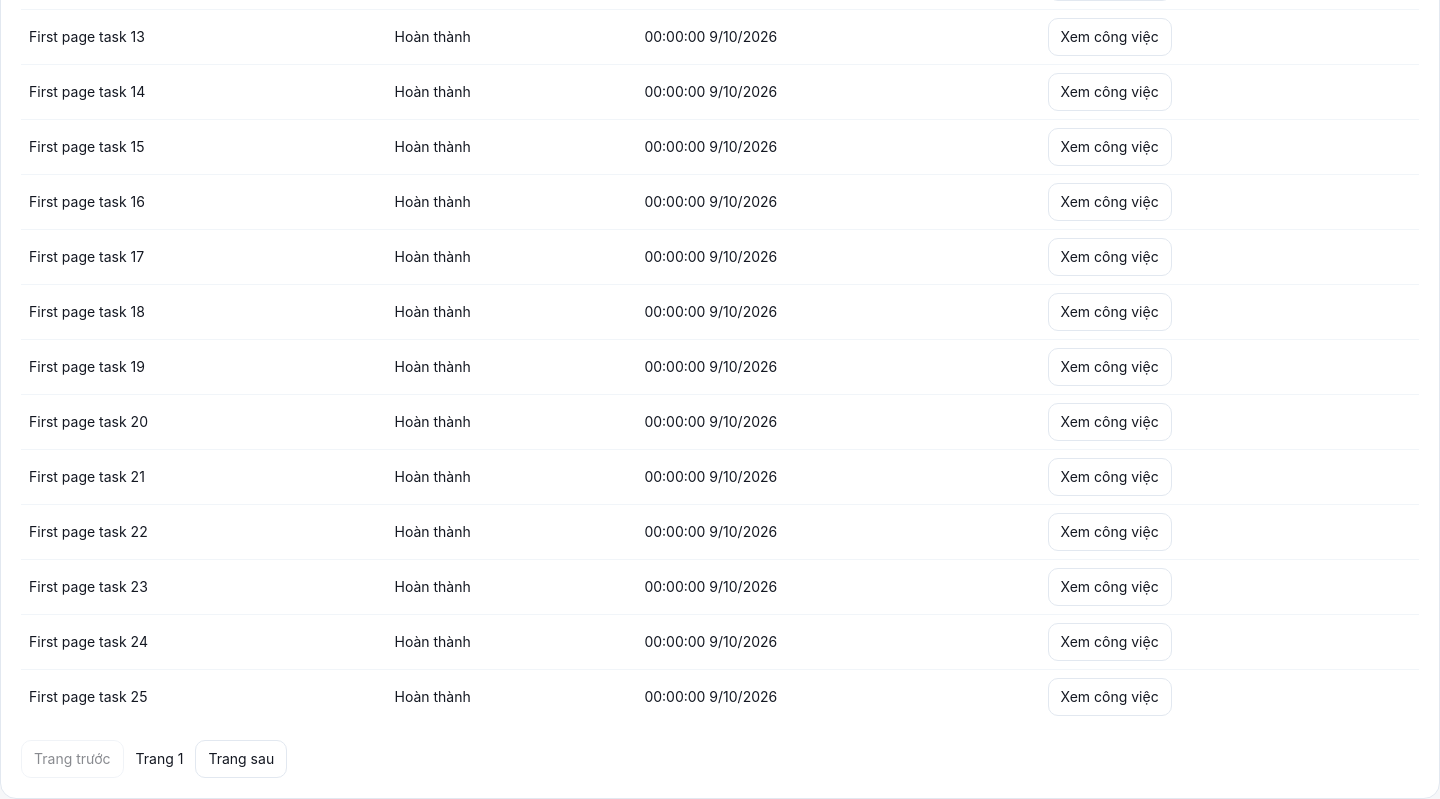
pages owner history, opens the later task and refreshes that page through reads only
(page scrolled)
Expected: the button "Trang trước" is disabled, [21,740,124,778]
Click the button "Trang sau".
click(241, 759)  # box [196,740,287,778]
(page scrolled)
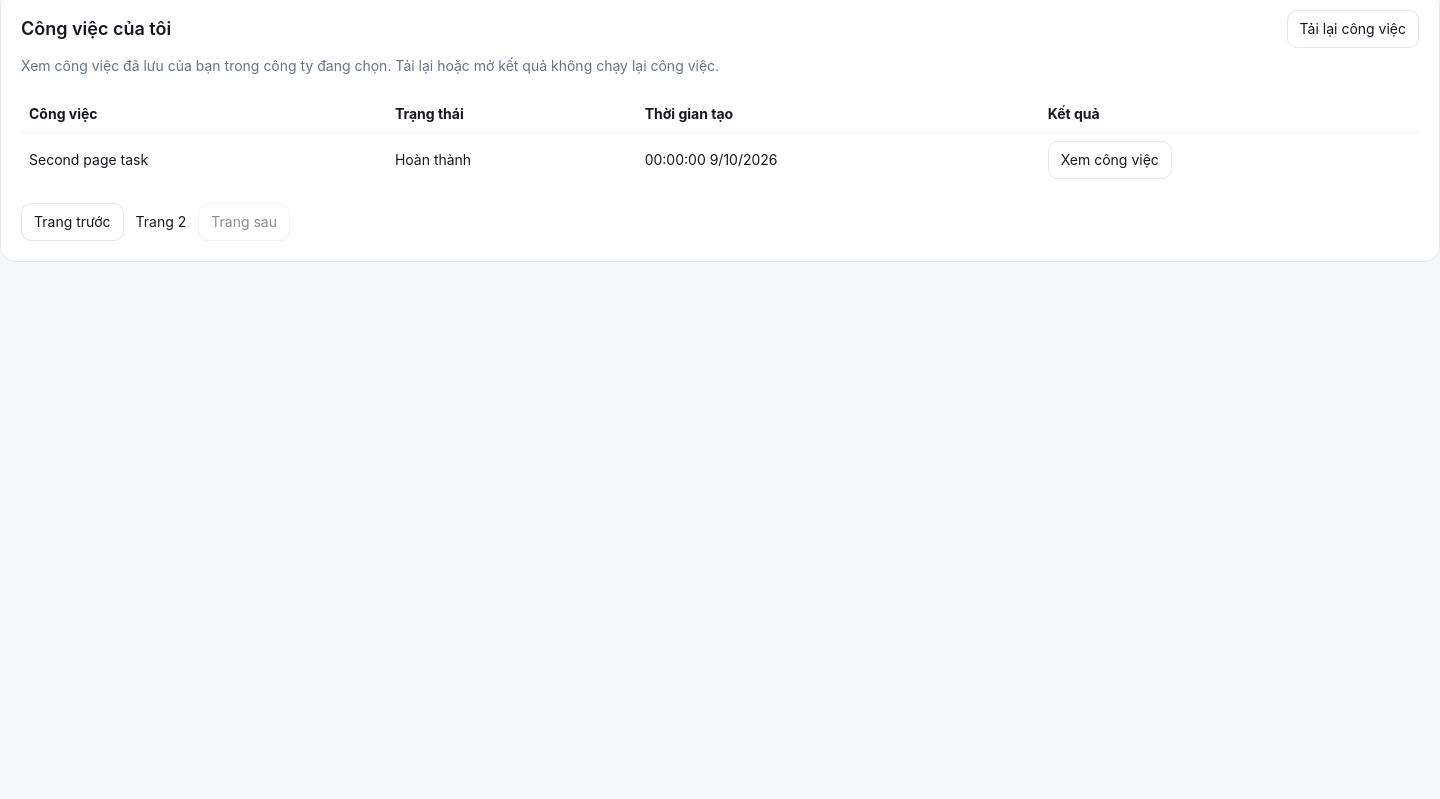
Result: the text "Second page task" is shown at [21,132,387,187]
Result: the text "Trang 2" is shown at [136,212,186,232]
Result: the button "Trang sau" is disabled at [198,203,290,241]
Click the button with aria-label "Xem công việc Second page task".
click(1110, 160)  # box [1048,141,1172,179]
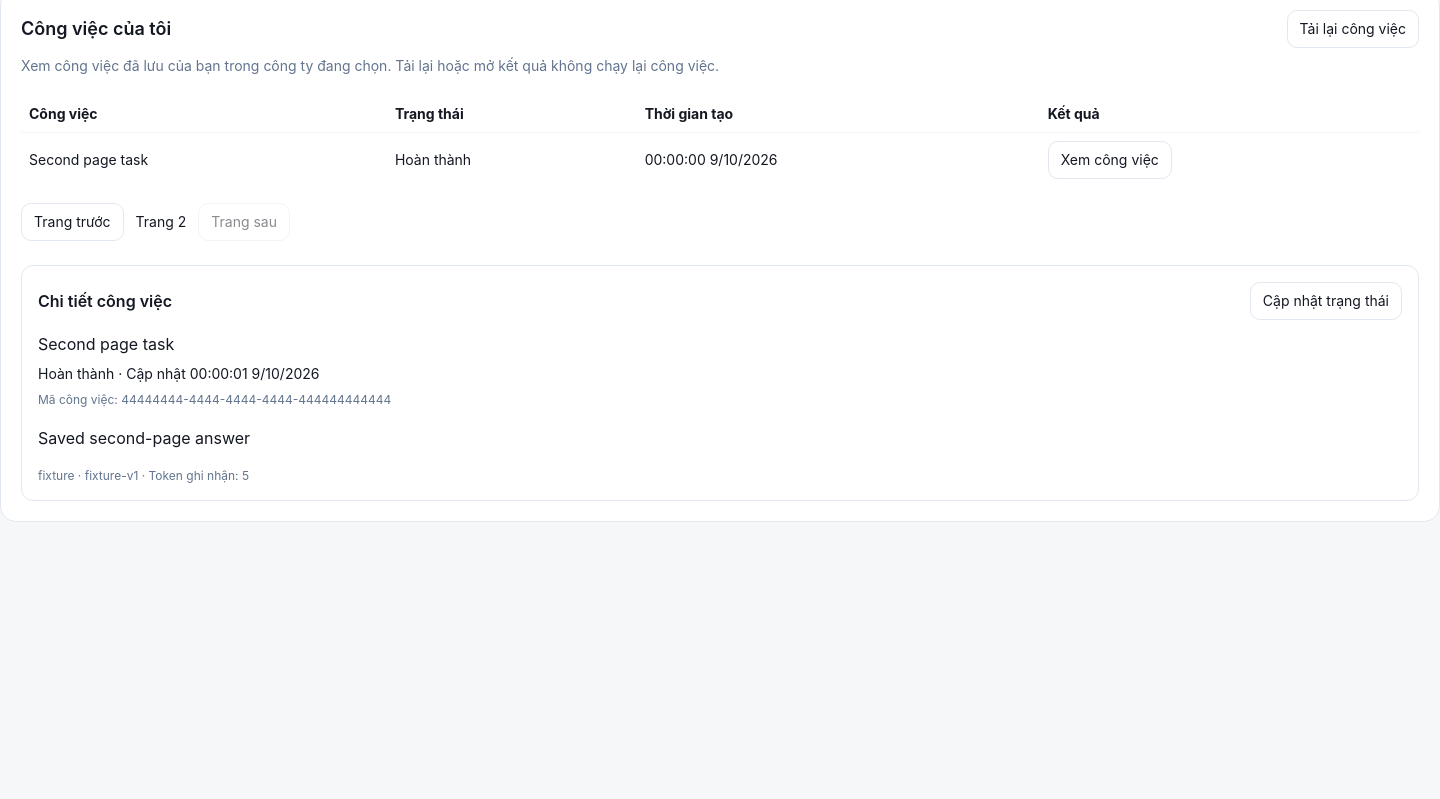
Result: the text "Saved second-page answer" is shown at [38,428,250,448]
Click the button "Tải lại công việc".
click(1353, 29)  # box [1287,10,1419,48]
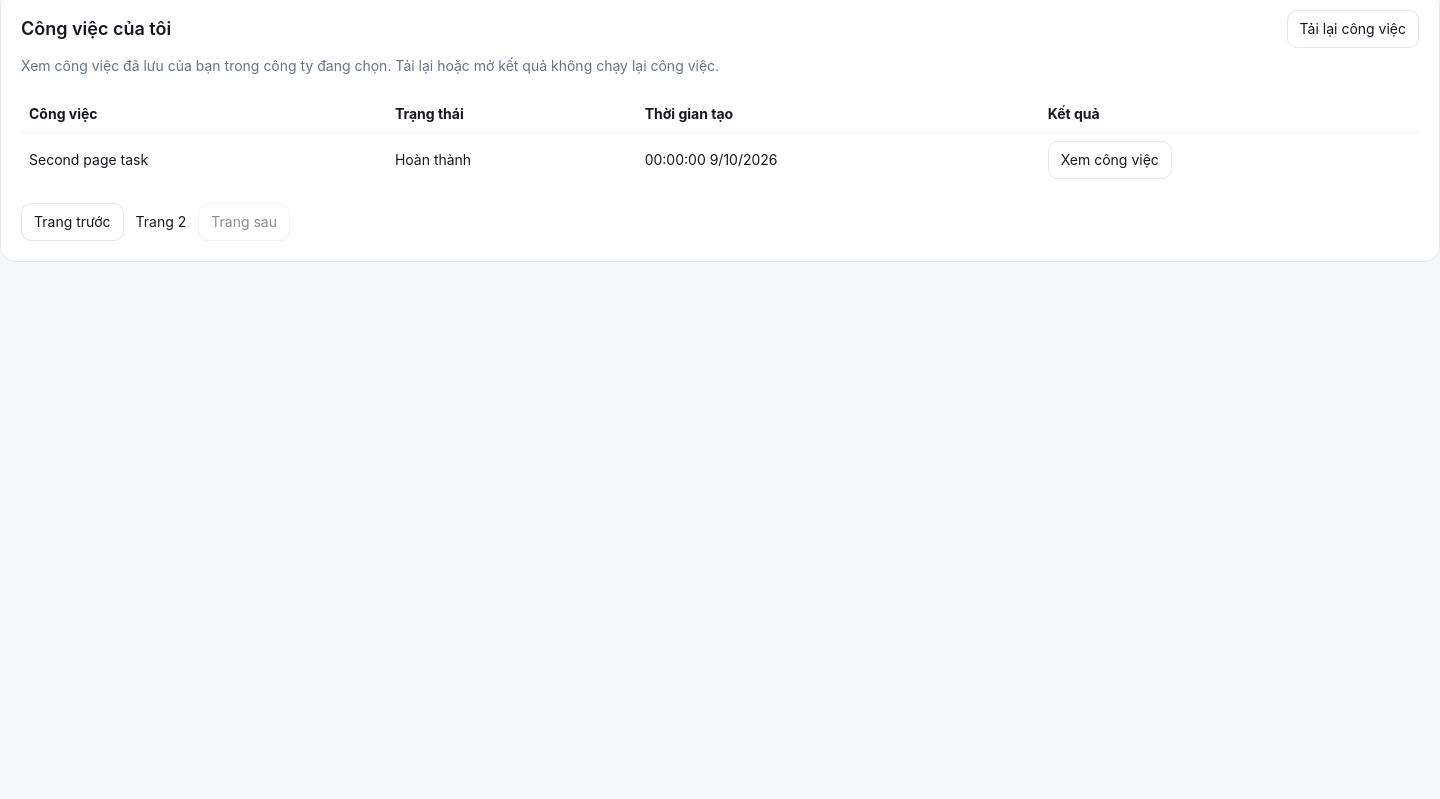
Result: the text "Second page task" is shown at [21,132,387,187]
Result: the text "Trang 2" is shown at [136,212,186,232]
Result: the text "Saved second-page answer" is gone
Click the button "Trang trước".
click(72, 222)  # box [21,203,124,241]
(page scrolled)
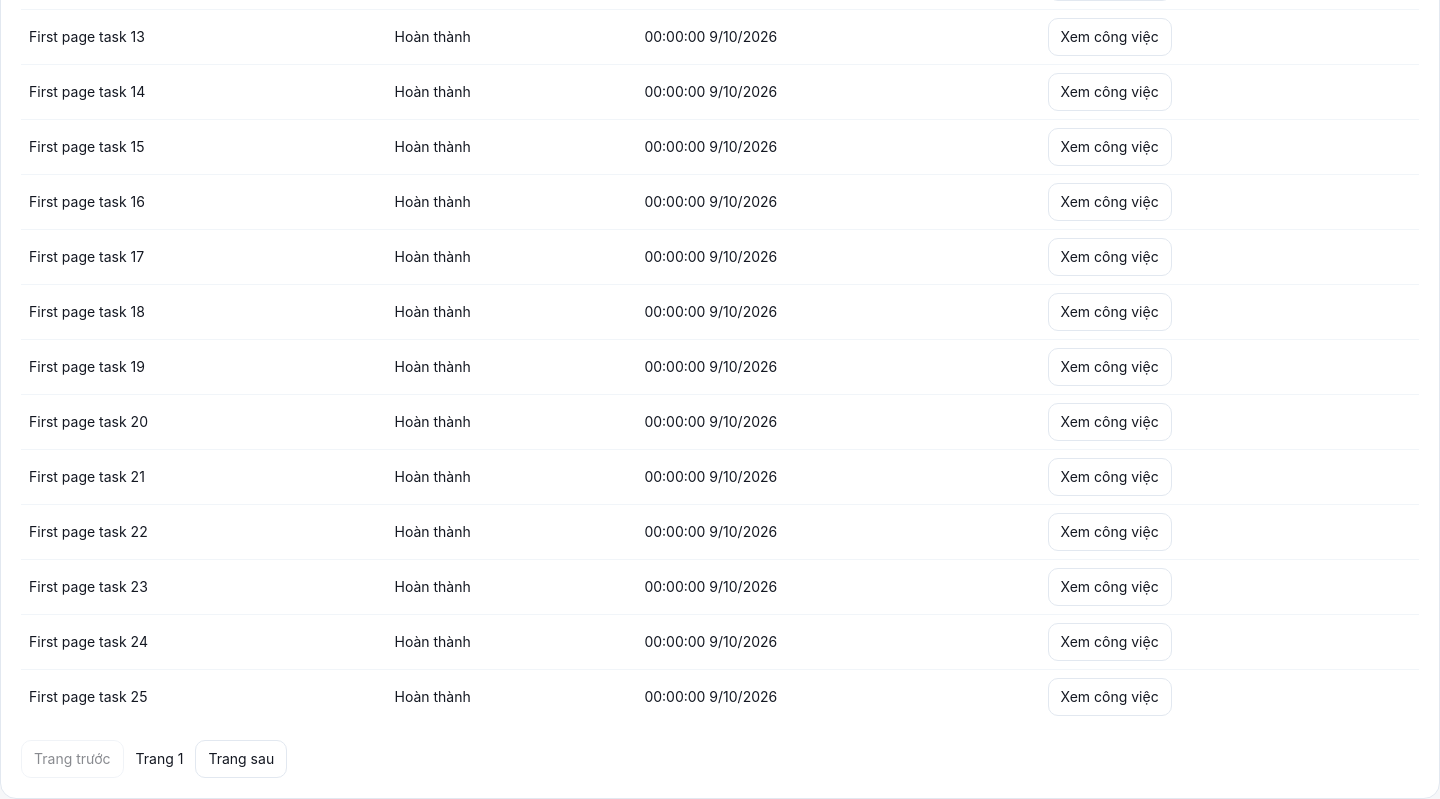
Result: the text "Second page task" is gone
Result: the text "Trang 1" is shown at [136,749,184,769]
